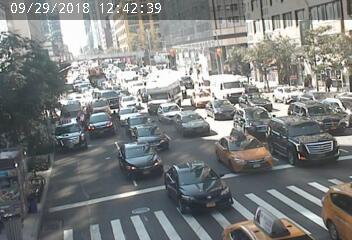car: (168, 155, 231, 206), (270, 120, 331, 171), (296, 96, 352, 128), (223, 131, 263, 163), (119, 141, 159, 171), (140, 72, 179, 100), (210, 69, 244, 100), (234, 107, 269, 131), (53, 125, 84, 151), (176, 112, 208, 134), (152, 101, 180, 126), (137, 126, 168, 144), (61, 102, 88, 122), (278, 83, 305, 102), (247, 90, 273, 109), (128, 113, 154, 129), (205, 100, 227, 117), (118, 96, 146, 109), (115, 106, 136, 123), (87, 115, 110, 129), (189, 89, 209, 103), (90, 98, 109, 111), (101, 90, 118, 100), (73, 80, 90, 89)
